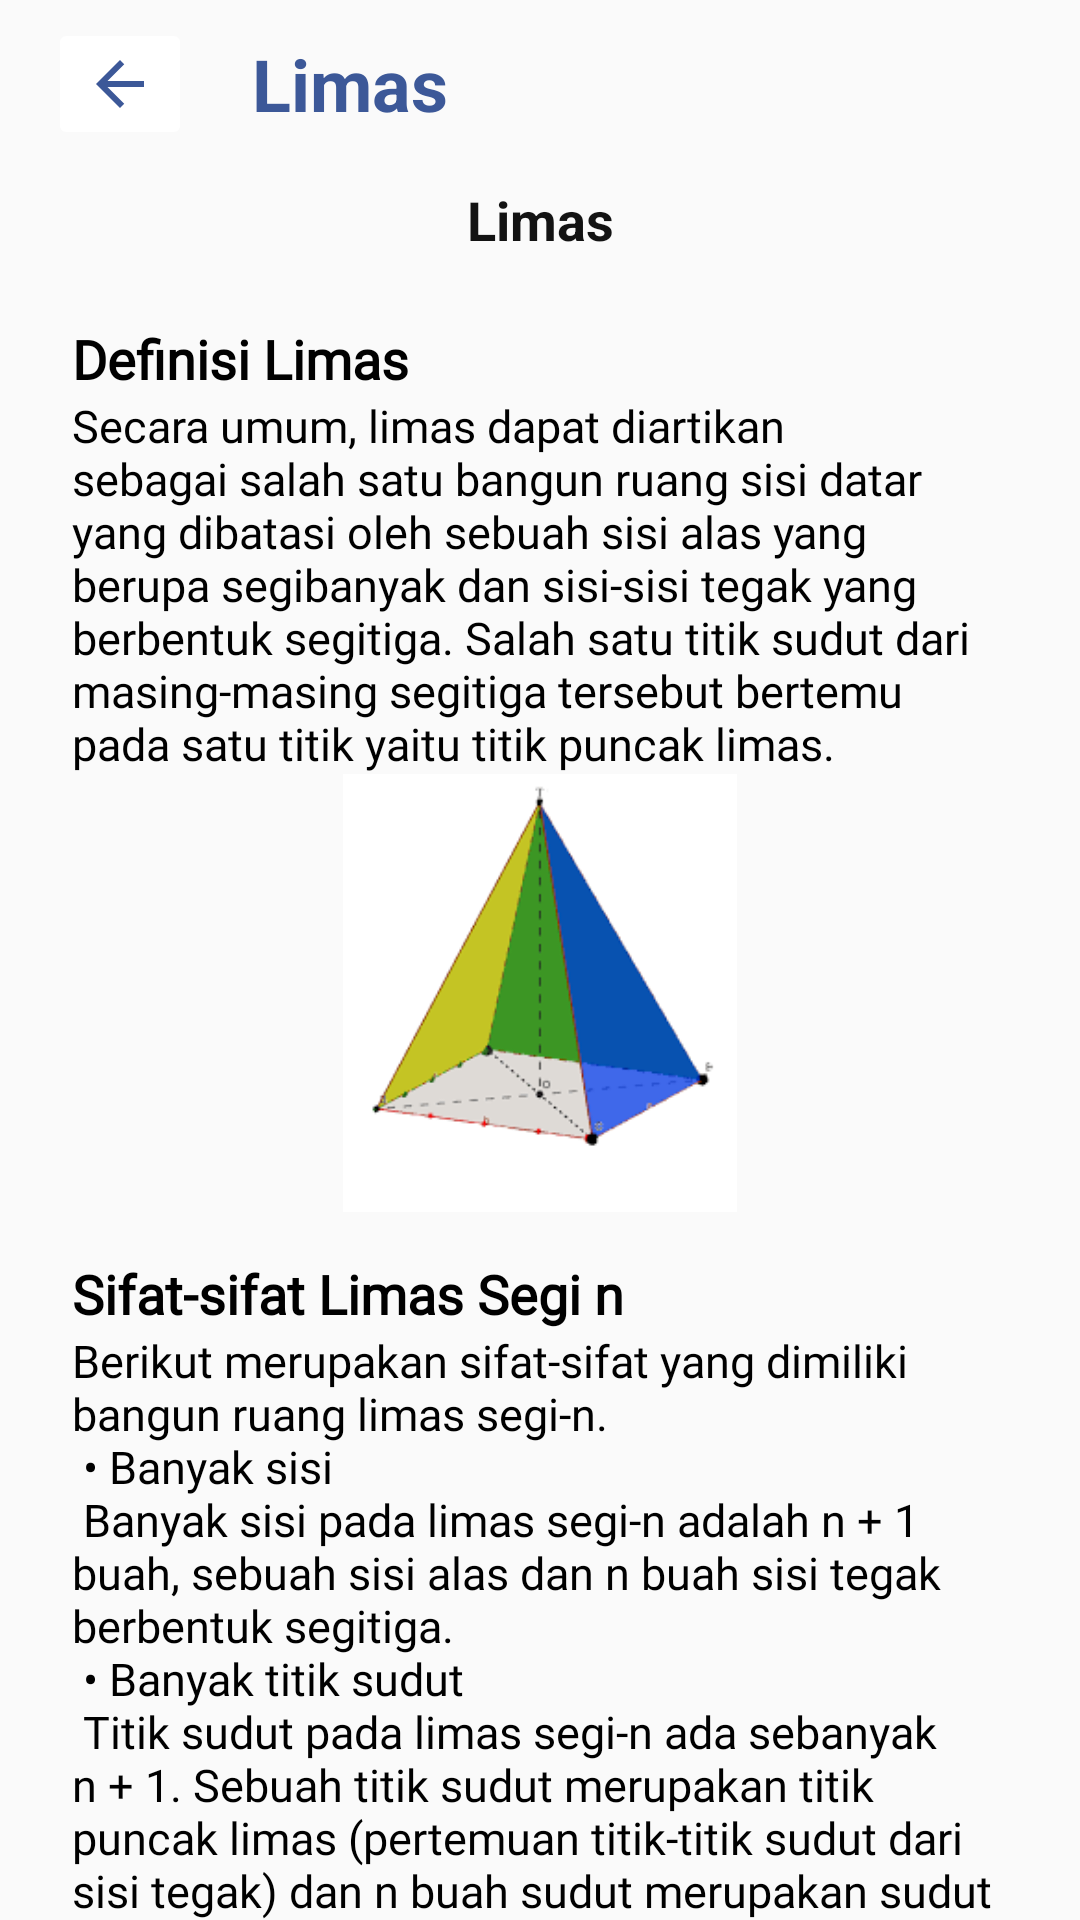

Screen size 1080w x 1920h. Icon name, then its box in pixels as (x1, y1, x2, y2):
back: (96, 60, 144, 108)
contoh limas: (372, 787, 713, 1146)
